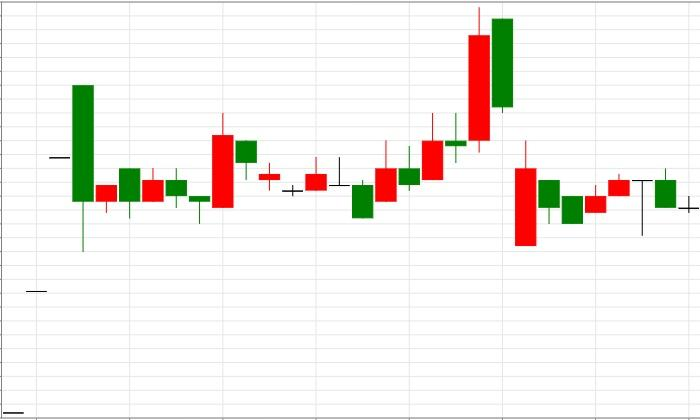evening_star_fall: (560, 168, 677, 236)
